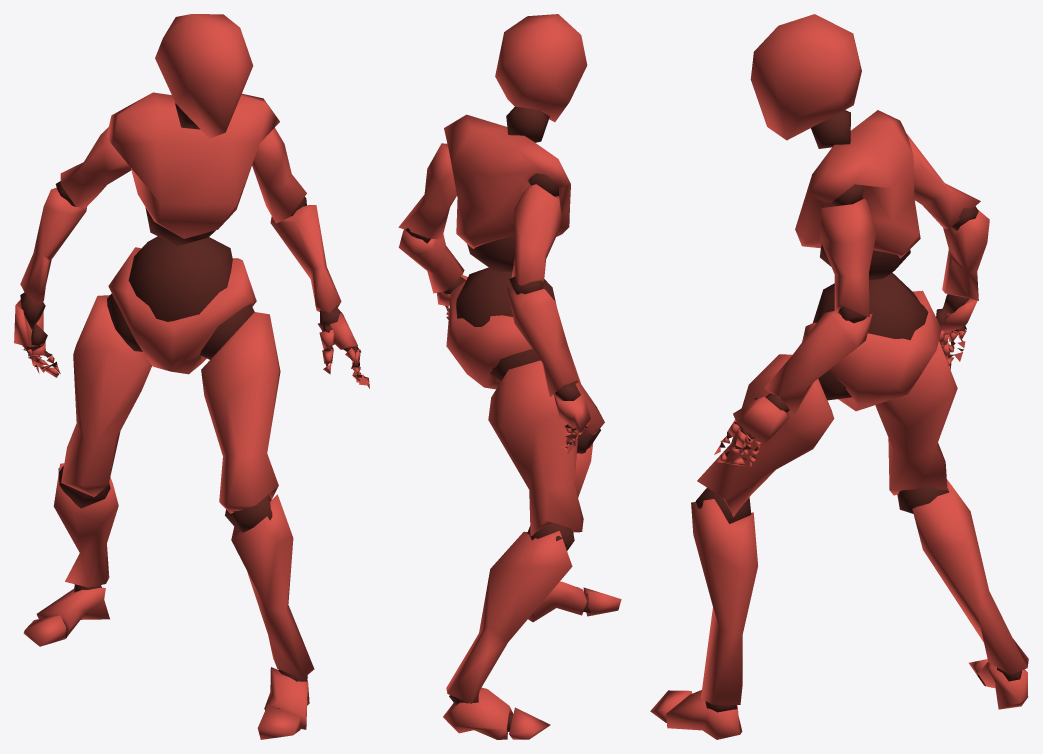
The picture shows the model from 3 angles, left to right: view 1: azimuth 30°, elevation 25°; view 2: azimuth 150°, elevation 25°; view 3: azimuth 270°, elevation 25°; orthographic projection. The views are drawn at different scales.
Visible parts, largest first — view 1: Beta_Surface; view 2: Beta_Surface; view 3: Beta_Surface.
Part boxes in pixels (x1=…): Beta_Surface: x1=14, y1=14, x2=369, y2=739; Beta_Surface: x1=398, y1=14, x2=621, y2=739; Beta_Surface: x1=650, y1=14, x2=1028, y2=739.
Bounding box in the file's own units: 5.56 × 14.58 × 7.2.
